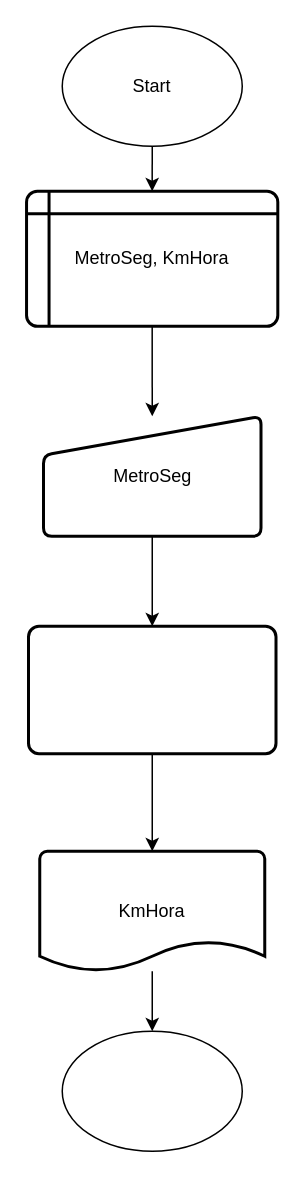
Image size: 306x1178. Some labels were removed from this diagram. Each missing label, with the centre of its shape:
"End" goes at pixel 151 1090.
"KmHora = MetroSeg * 3,6" goes at pixel 151 689.
